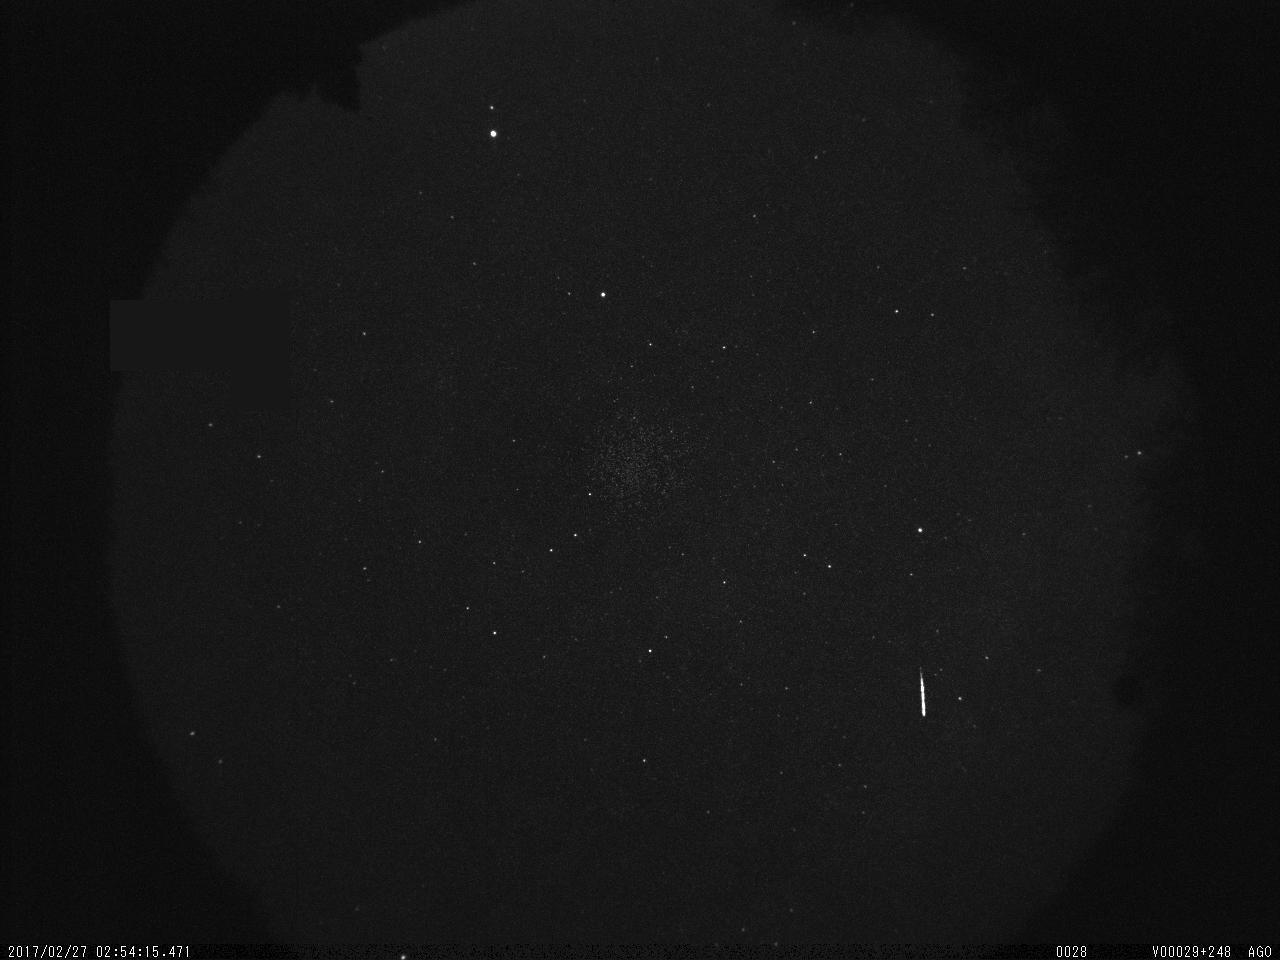meteor: (898, 656, 951, 729)
